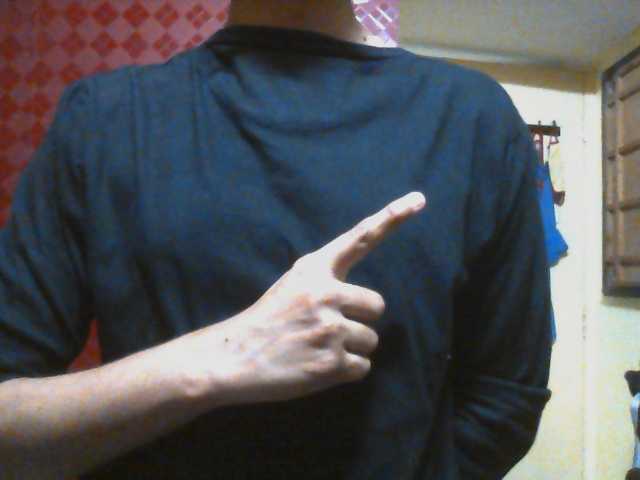I: (248, 189, 428, 400)
